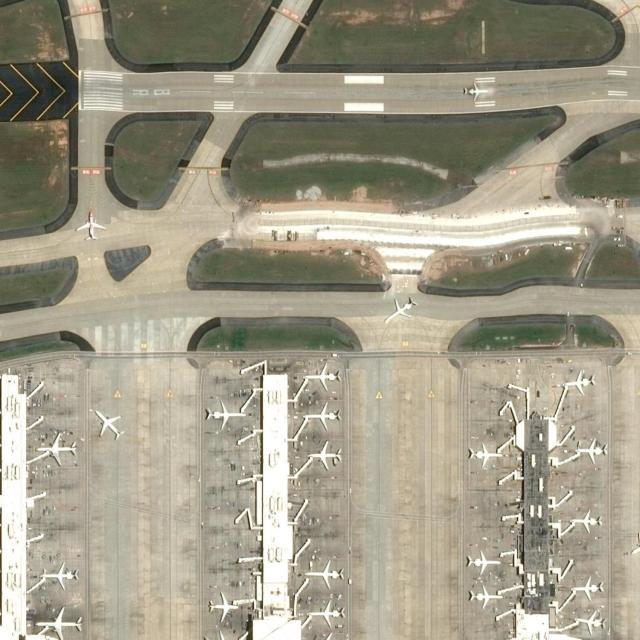Aircraft: (35, 603, 83, 639), (36, 428, 78, 466), (300, 399, 342, 429), (205, 400, 246, 429), (302, 559, 344, 587), (40, 560, 79, 590), (92, 407, 126, 441), (303, 363, 342, 391), (305, 598, 343, 626), (383, 295, 418, 325), (306, 439, 341, 469), (206, 591, 238, 621), (569, 575, 607, 600), (466, 442, 502, 468), (574, 436, 608, 463), (76, 211, 107, 239), (563, 368, 595, 395), (569, 507, 601, 534), (466, 550, 502, 574), (467, 584, 505, 606), (572, 610, 606, 633), (464, 81, 488, 101), (207, 630, 244, 640), (307, 631, 345, 640)
